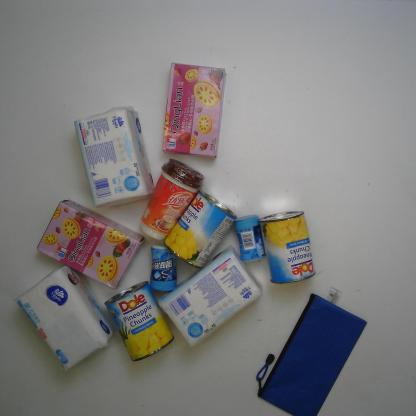Canned Food: (103, 279, 176, 364), (162, 191, 237, 269), (258, 209, 317, 286)
Dessert: (36, 198, 145, 288), (163, 62, 227, 157)
Gum: (233, 215, 268, 264), (148, 245, 179, 293)
Instant Drink: (138, 159, 206, 242)
Stationery: (255, 286, 368, 416)
Tissue: (157, 246, 263, 350), (16, 264, 114, 372), (72, 106, 153, 206)
